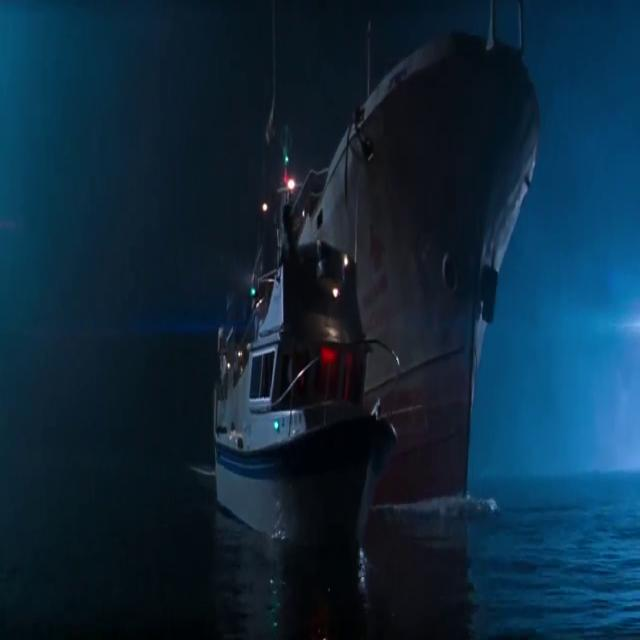Boat: (269, 35, 531, 518), (184, 264, 427, 594)
